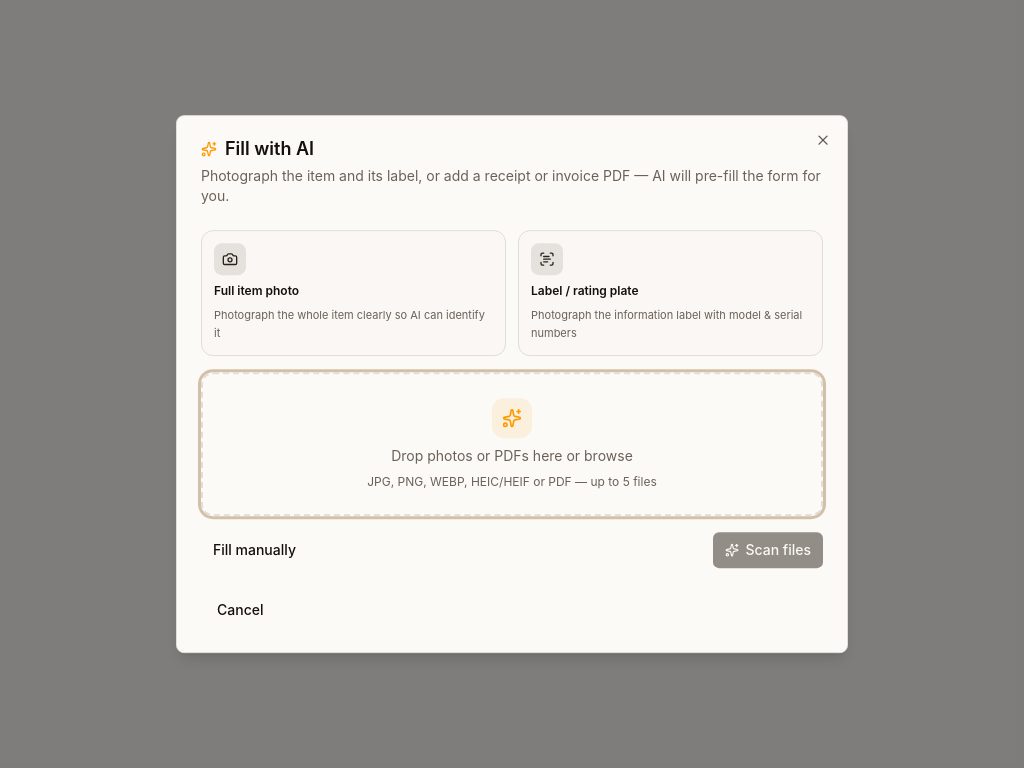
Test case: <CommodityFormDialog /> AI scan step › rewinds from Basics back to the AI scan step via Back
Note: "Fill manually" hands off from the AI offer to Basics.
Click the button with test id "commodity-form-ai-fill-manually".
click(254, 550)  # box [201,534,308,566]
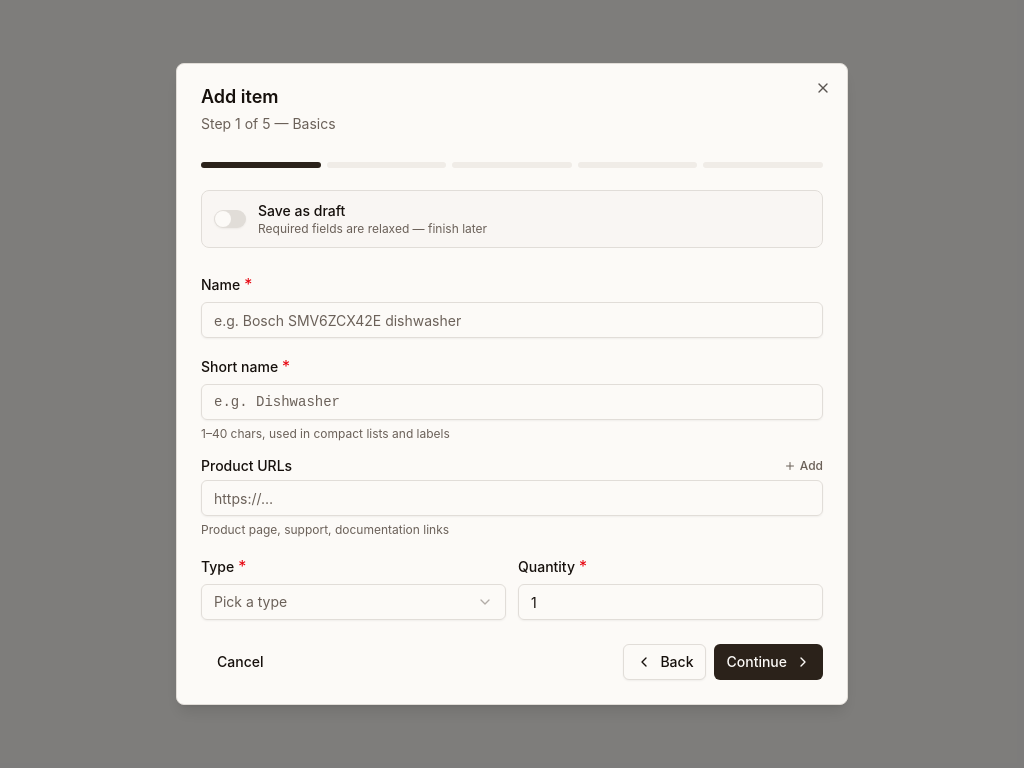
Result: the field labelled "Name" is shown at [201,302,823,338]
Result: the element with test id "commodity-form-ai-step" is gone
Click the button "Back".
click(665, 662)  # box [623,644,706,680]
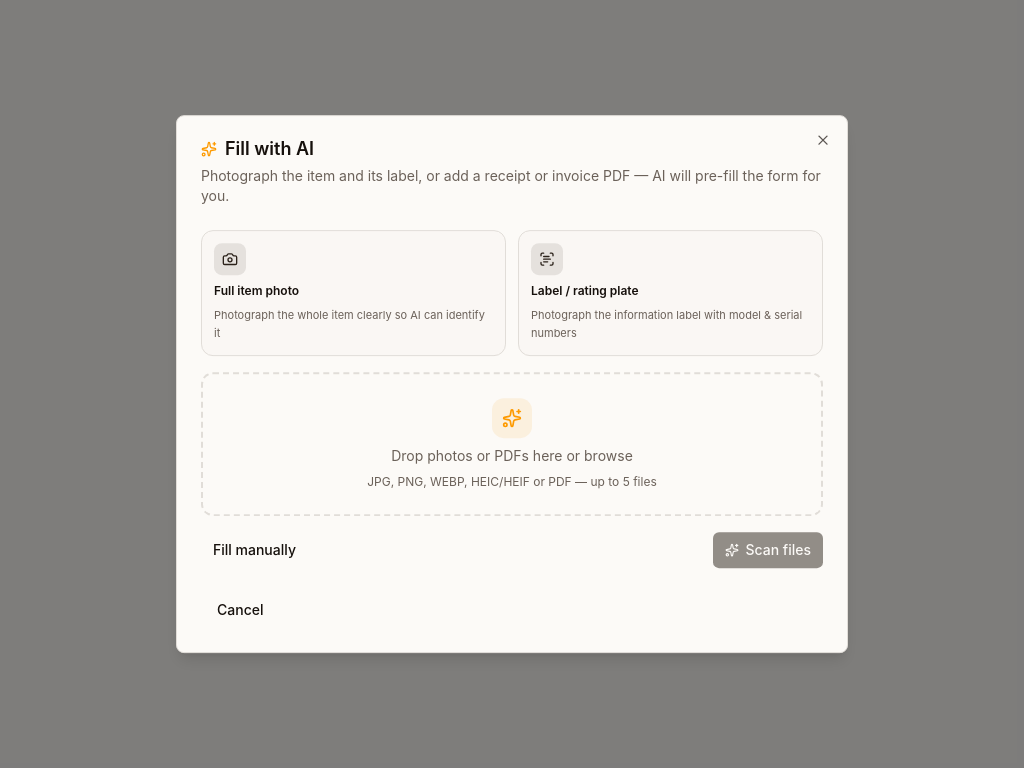
Result: the label labelled "Name" is gone
